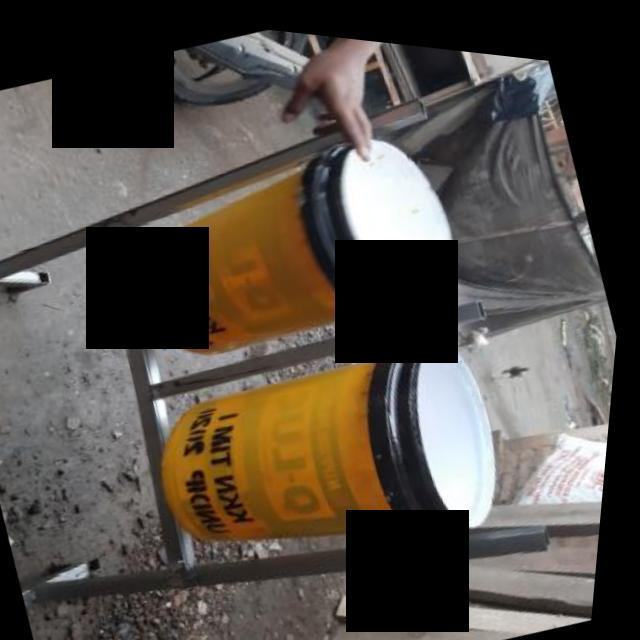bin: (146, 289, 542, 616), (90, 73, 493, 394)
